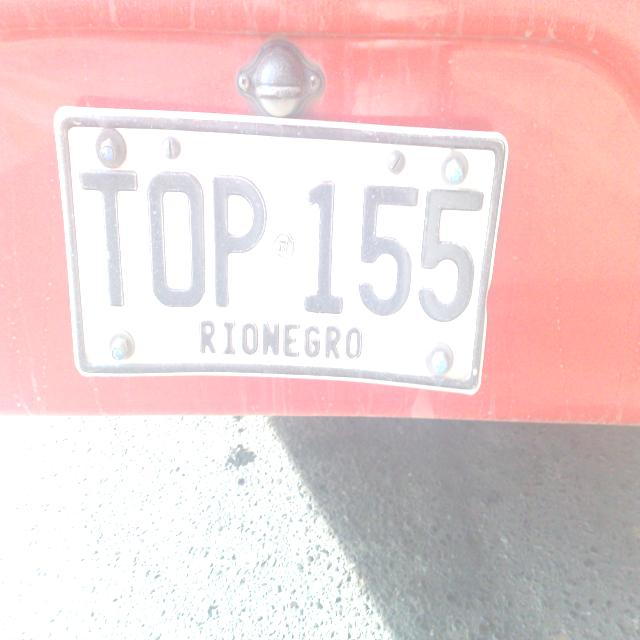placa: (52, 96, 510, 398)
